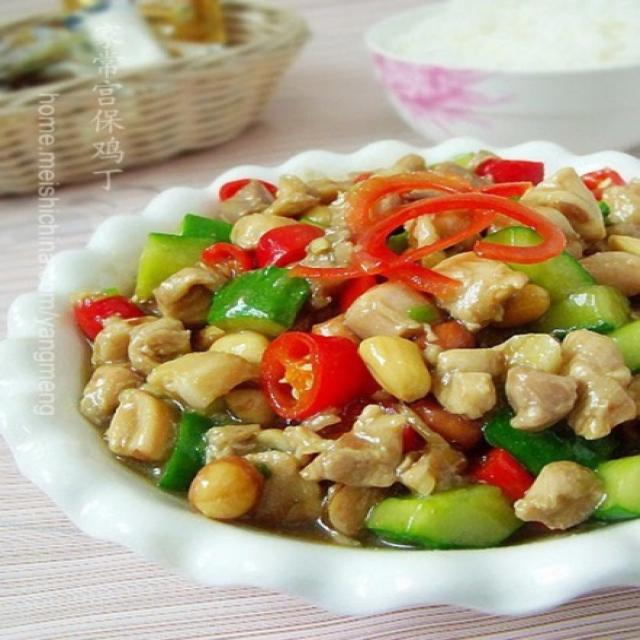鸡肉料理 含炸鸡: (45, 112, 636, 573)
